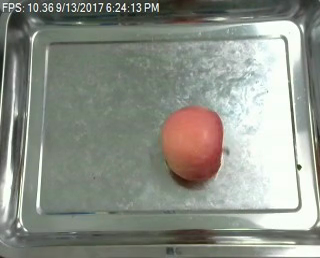Apple: (158, 102, 223, 185)
